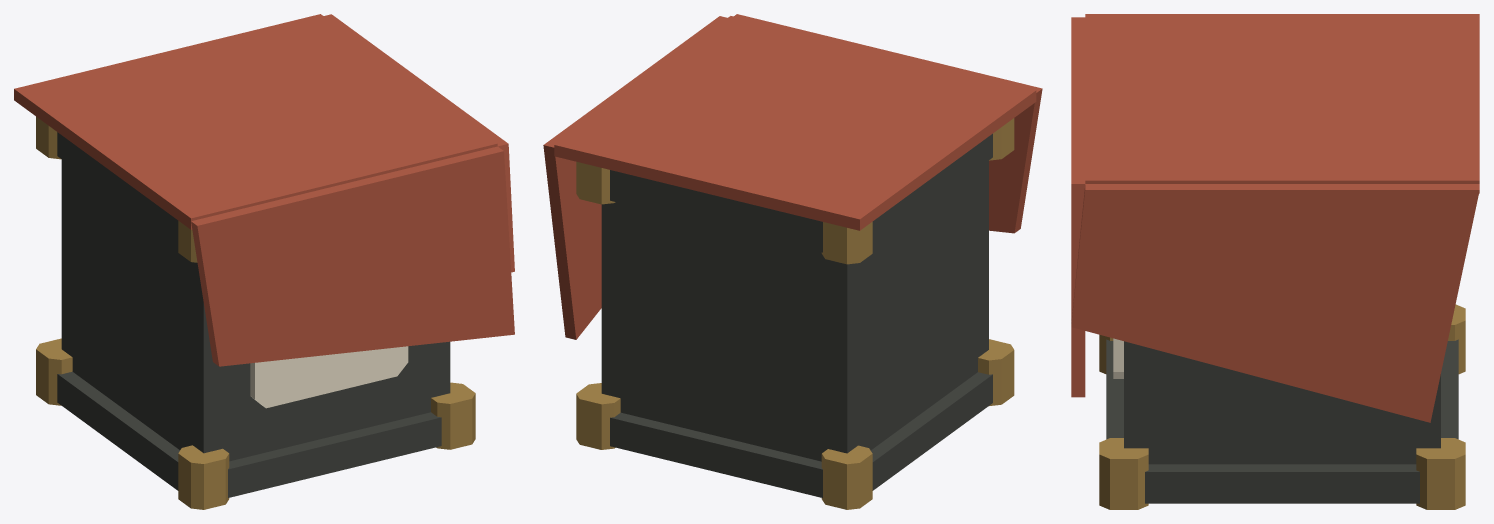
The model's file is b1_crate_cloth.glb.
The picture shows the model from 3 angles, left to right: view 1: azimuth 30°, elevation 25°; view 2: azimuth 150°, elevation 25°; view 3: azimuth 270°, elevation 25°; orthographic projection. The views are drawn at different scales.
Visible parts, largest first — view 1: b1_crate_cloth; view 2: b1_crate_cloth; view 3: b1_crate_cloth.
Part boxes in pixels (<box>): b1_crate_cloth: <box>14,14,514,509</box>; b1_crate_cloth: <box>543,14,1042,509</box>; b1_crate_cloth: <box>1071,14,1479,509</box>.
Size of the model in its own units: 1.16 by 1.05 by 1.16.
